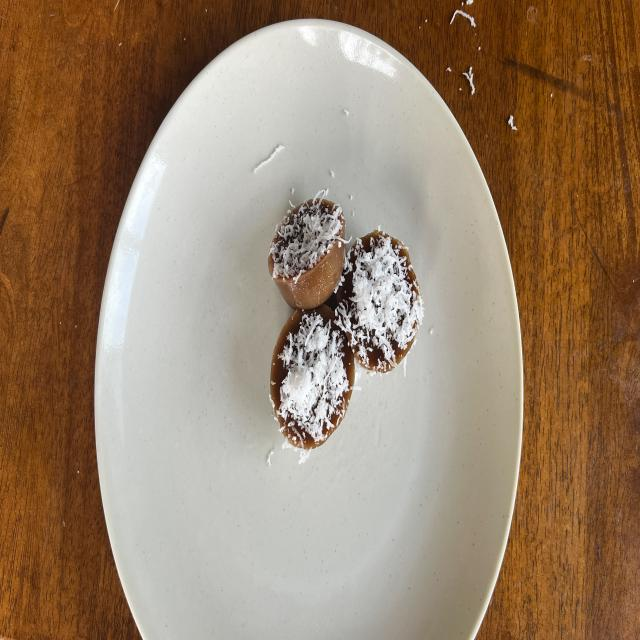Kuih lompang: (335, 229, 424, 373), (270, 304, 355, 451), (268, 191, 345, 309)
